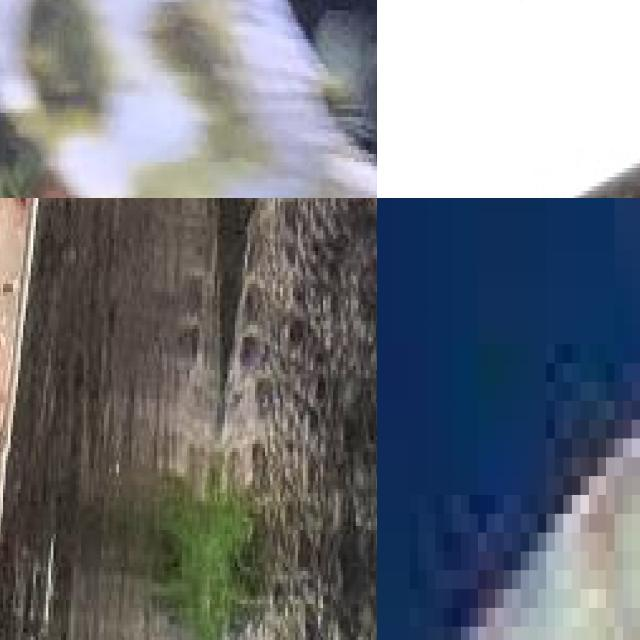fish: (377, 198, 640, 640), (0, 0, 377, 198), (377, 0, 640, 198)
